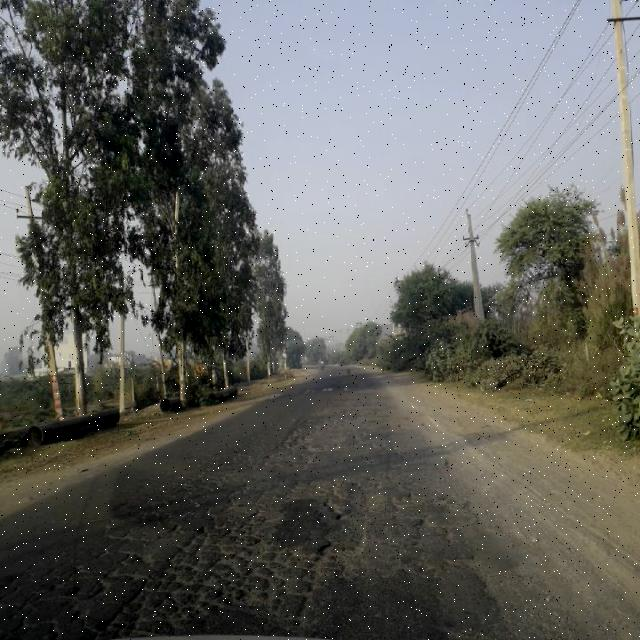D20: (14, 482, 342, 639)
D40: (317, 430, 487, 639)
